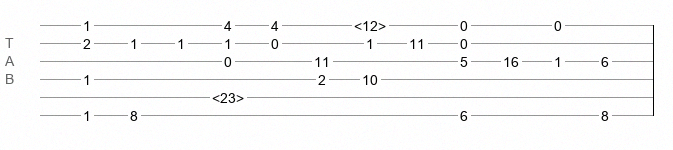0: (224, 54, 232, 64), (271, 36, 279, 46), (460, 36, 468, 46), (460, 18, 468, 28), (554, 18, 562, 28)
1: (83, 18, 91, 28), (83, 72, 91, 82), (83, 108, 91, 118), (130, 36, 138, 46), (177, 36, 185, 46), (224, 36, 232, 46), (366, 36, 374, 46), (554, 54, 562, 64)
10: (362, 72, 378, 82)
11: (314, 54, 330, 64), (409, 36, 425, 46)
16: (503, 54, 519, 64)
2: (83, 36, 91, 46), (318, 72, 326, 82)
4: (224, 18, 232, 28), (271, 18, 279, 28)
5: (460, 54, 468, 64)
6: (460, 108, 468, 118), (601, 54, 609, 64)
8: (130, 108, 138, 118), (601, 108, 609, 118)
harmonic: (212, 90, 244, 100), (354, 18, 386, 28)
